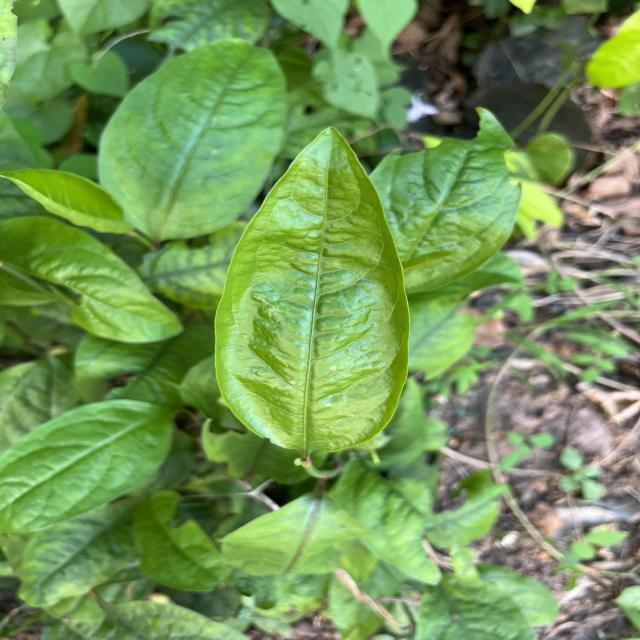Plumbago indica: (208, 125, 418, 462), (94, 40, 292, 240), (372, 102, 528, 296), (0, 396, 172, 538)
